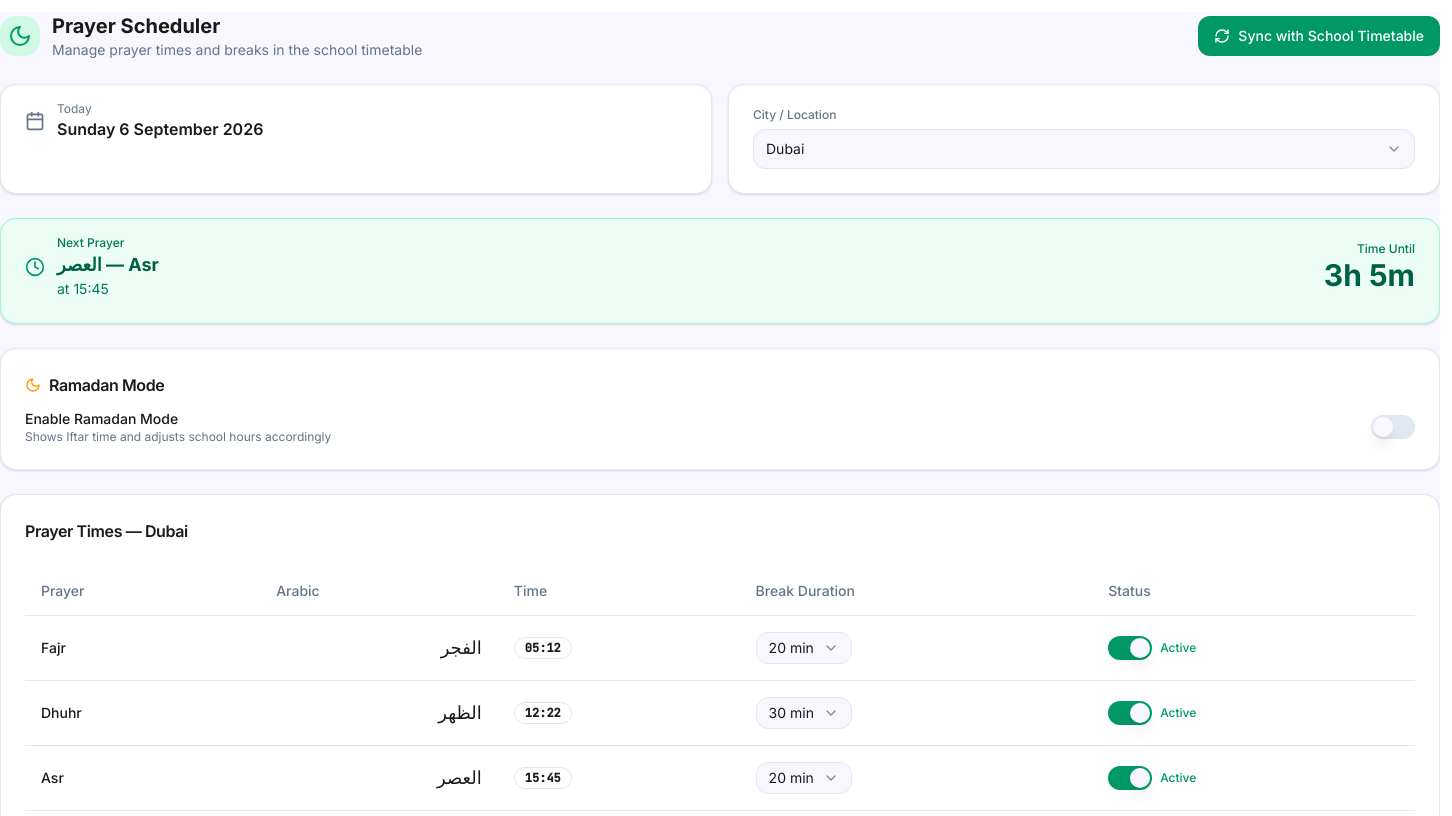
Test: PrayerScheduler › toggles Ramadan Mode on and reveals the Iftar time + reduced-hours note
Check: the text "Ramadan Schedule Active" is not shown
What coordinates should you click on to do the following:
click the switch in the row of "Enable Ramadan Mode"
I would click on:
 (1393, 427)
Its box is [1371,415,1415,439].
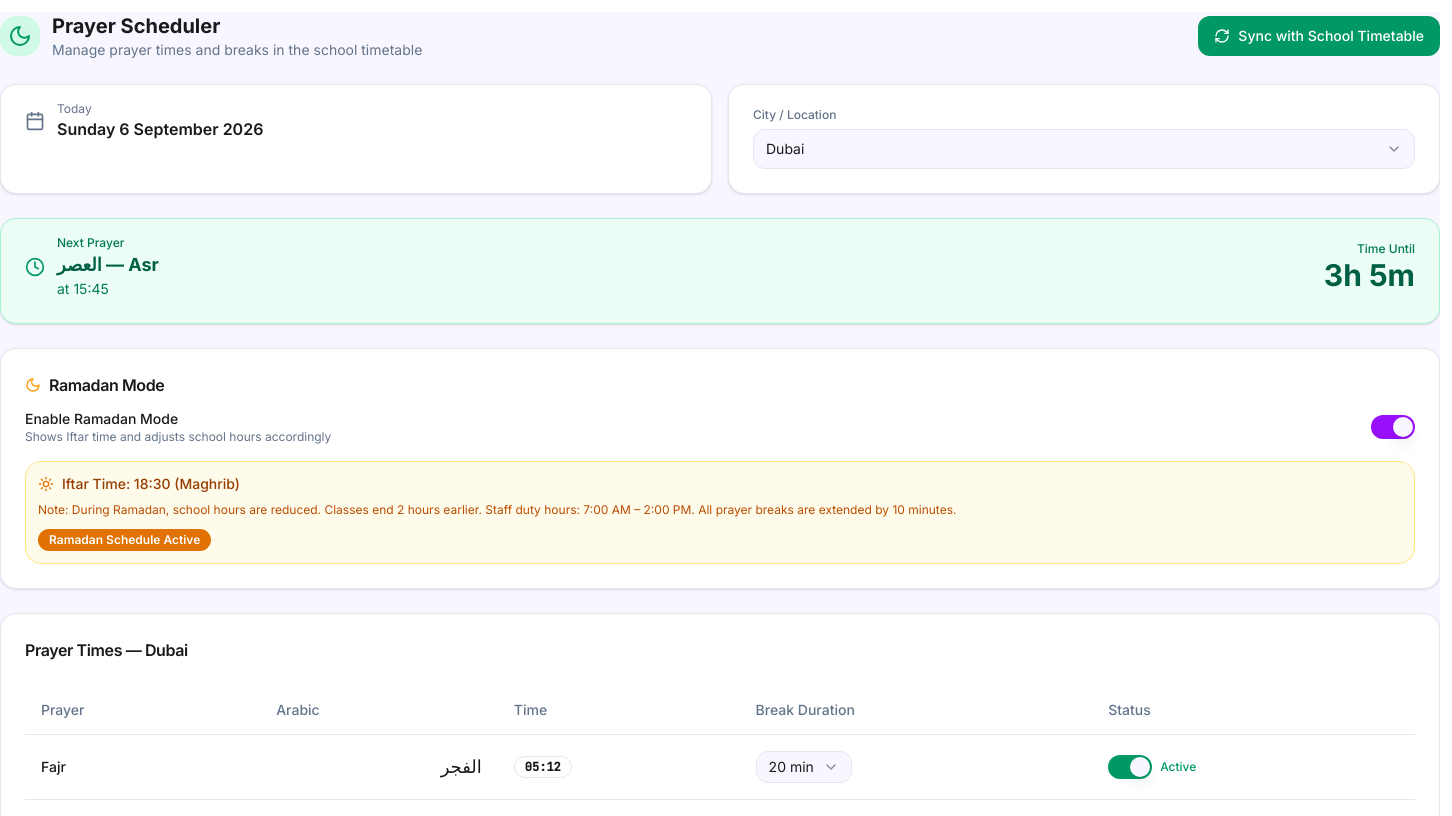
Check: the text "Ramadan Schedule Active" is shown, box [38,529,211,551]
Check: the text "Iftar Time: 18:30 (Maghrib)" is shown, box [62,474,240,494]
